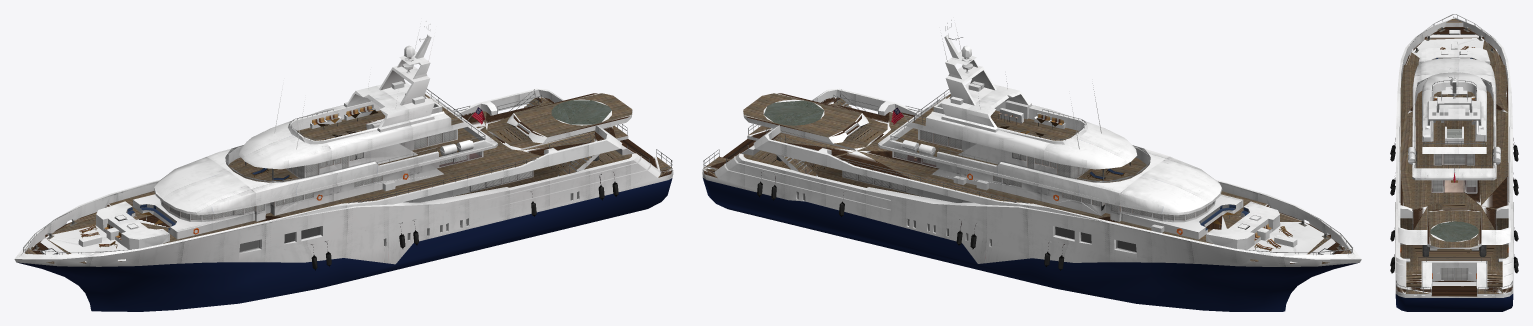
Rendered from yacht.glb.
The picture shows the model from 3 angles, left to right: view 1: azimuth 30°, elevation 25°; view 2: azimuth 150°, elevation 25°; view 3: azimuth 270°, elevation 25°; orthographic projection. The views are drawn at different scales.
Visible parts, largest first — view 1: yacht; view 2: yacht; view 3: yacht.
Part boxes in pixels (box(x1,y1,x2,y2)): yacht: box(14, 21, 673, 311); yacht: box(702, 20, 1361, 311); yacht: box(1390, 14, 1518, 311).
Bounding box in the file's own units: 32 × 10.19 × 7.1.
40 materials, 39 textured.
